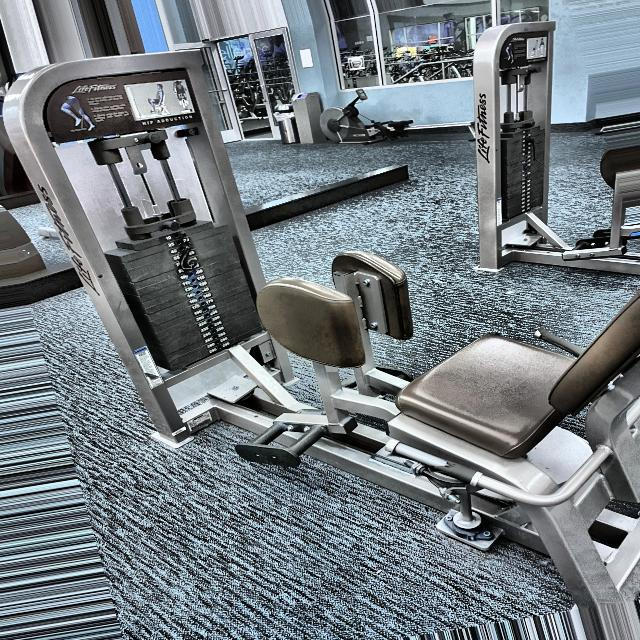hip_adduction_machine: (252, 200, 640, 604), (278, 215, 432, 487), (64, 79, 200, 134), (138, 111, 191, 129)
